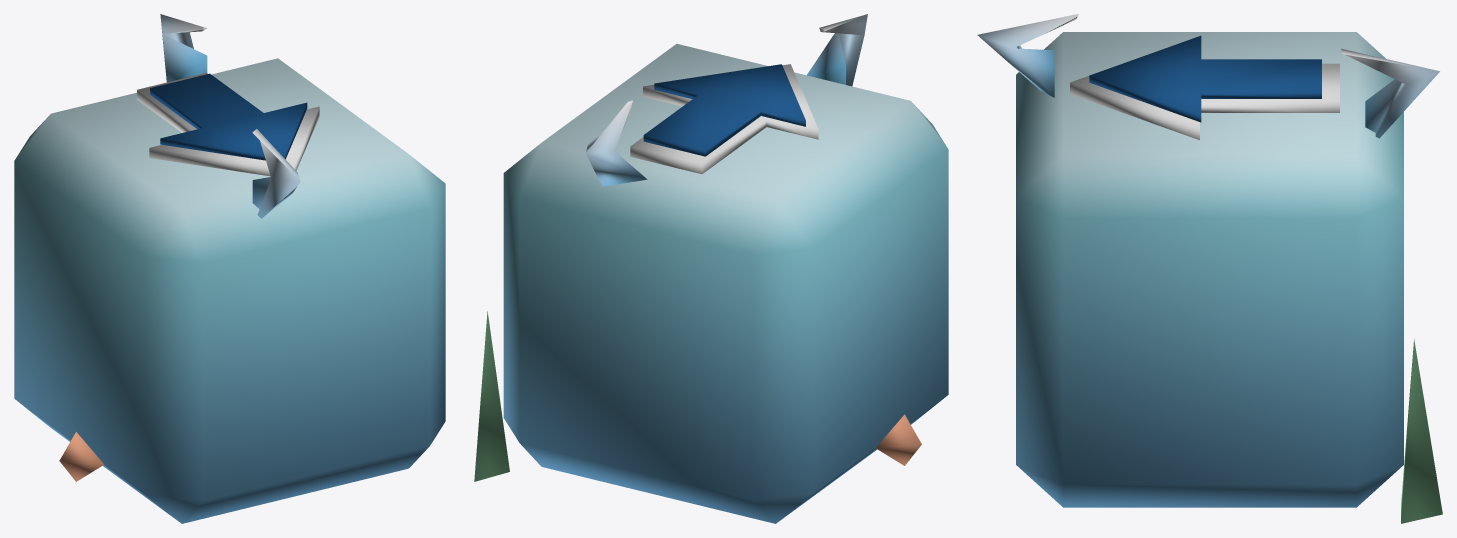
3 views of the same model, side by side, from view 1: azimuth 30°, elevation 25°; view 2: azimuth 150°, elevation 25°; view 3: azimuth 270°, elevation 25° (orthographic). The views are drawn at different scales.
Visible parts, largest first — view 1: su_lod2; view 2: su_lod2; view 3: su_lod2.
Part boxes in pixels (x1=…): su_lod2: x1=14, y1=14, x2=445, y2=523; su_lod2: x1=474, y1=14, x2=948, y2=523; su_lod2: x1=977, y1=14, x2=1442, y2=523.
Bounding box in the file's own units: 1.01 × 1.06 × 1.08.
